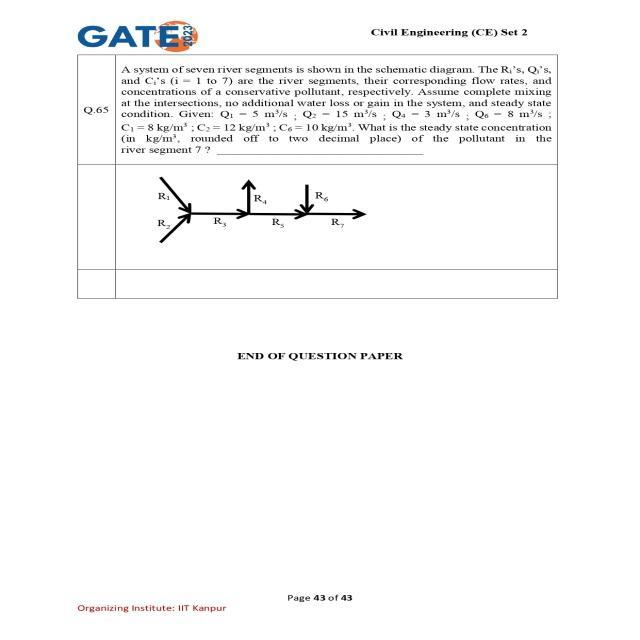Question_Answer_Block: (78, 56, 556, 298)
Question_Block: (81, 58, 553, 296)
Question_Paper_Area: (76, 55, 556, 298)
